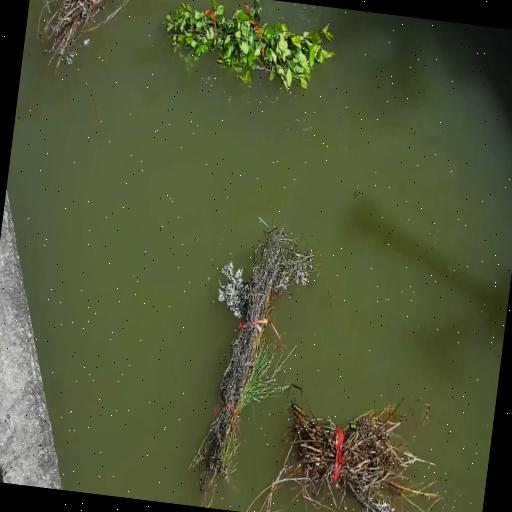twig: (190, 226, 316, 508), (260, 401, 435, 512), (166, 0, 334, 89), (40, 0, 129, 66)
